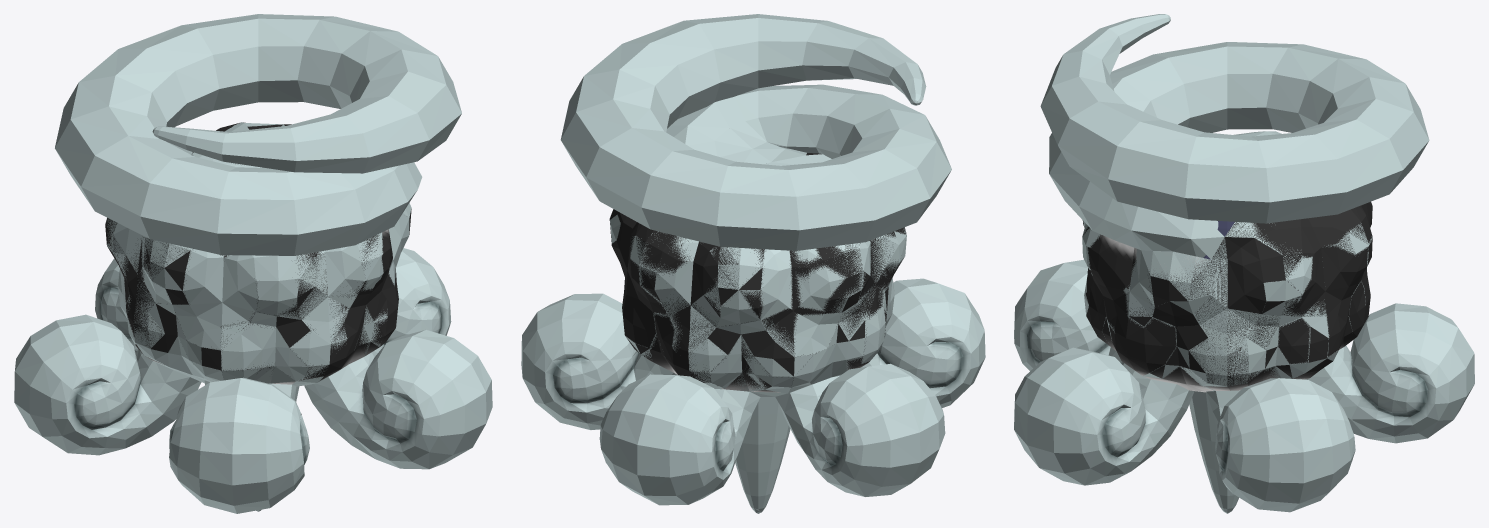
The model's file is XY_CastformSnowy.fbx.
The picture shows the model from 3 angles, left to right: view 1: azimuth 30°, elevation 25°; view 2: azimuth 150°, elevation 25°; view 3: azimuth 270°, elevation 25°; orthographic projection. The views are drawn at different scales.
Parts seen in each view (by area): view 1: CastformSnowy; view 2: CastformSnowy; view 3: CastformSnowy.
Boxes of the visible parts, left/top/right/bottom form: CastformSnowy: left=14, top=14, right=492, bottom=513; CastformSnowy: left=521, top=14, right=985, bottom=513; CastformSnowy: left=1014, top=14, right=1474, bottom=513.
Size of the model in its own units: 39.37 by 40.54 by 38.14.
Materials: 5 (5 with a texture image).
